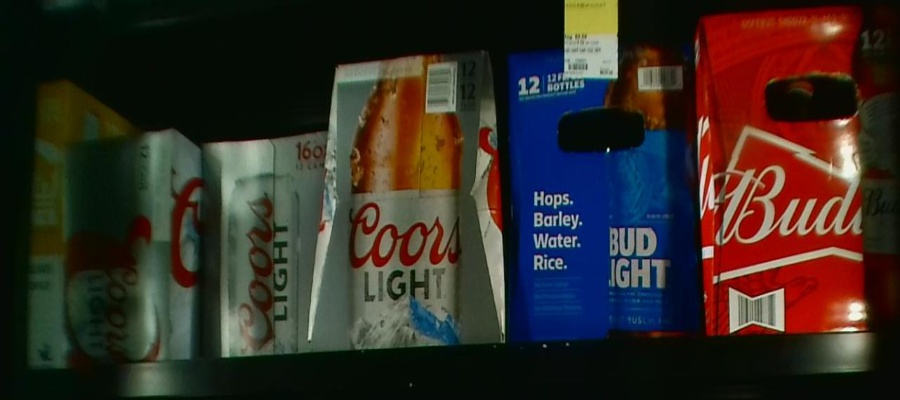bottle: (702, 13, 900, 331), (506, 49, 699, 338), (333, 54, 500, 343), (63, 132, 199, 362), (205, 132, 322, 348)
